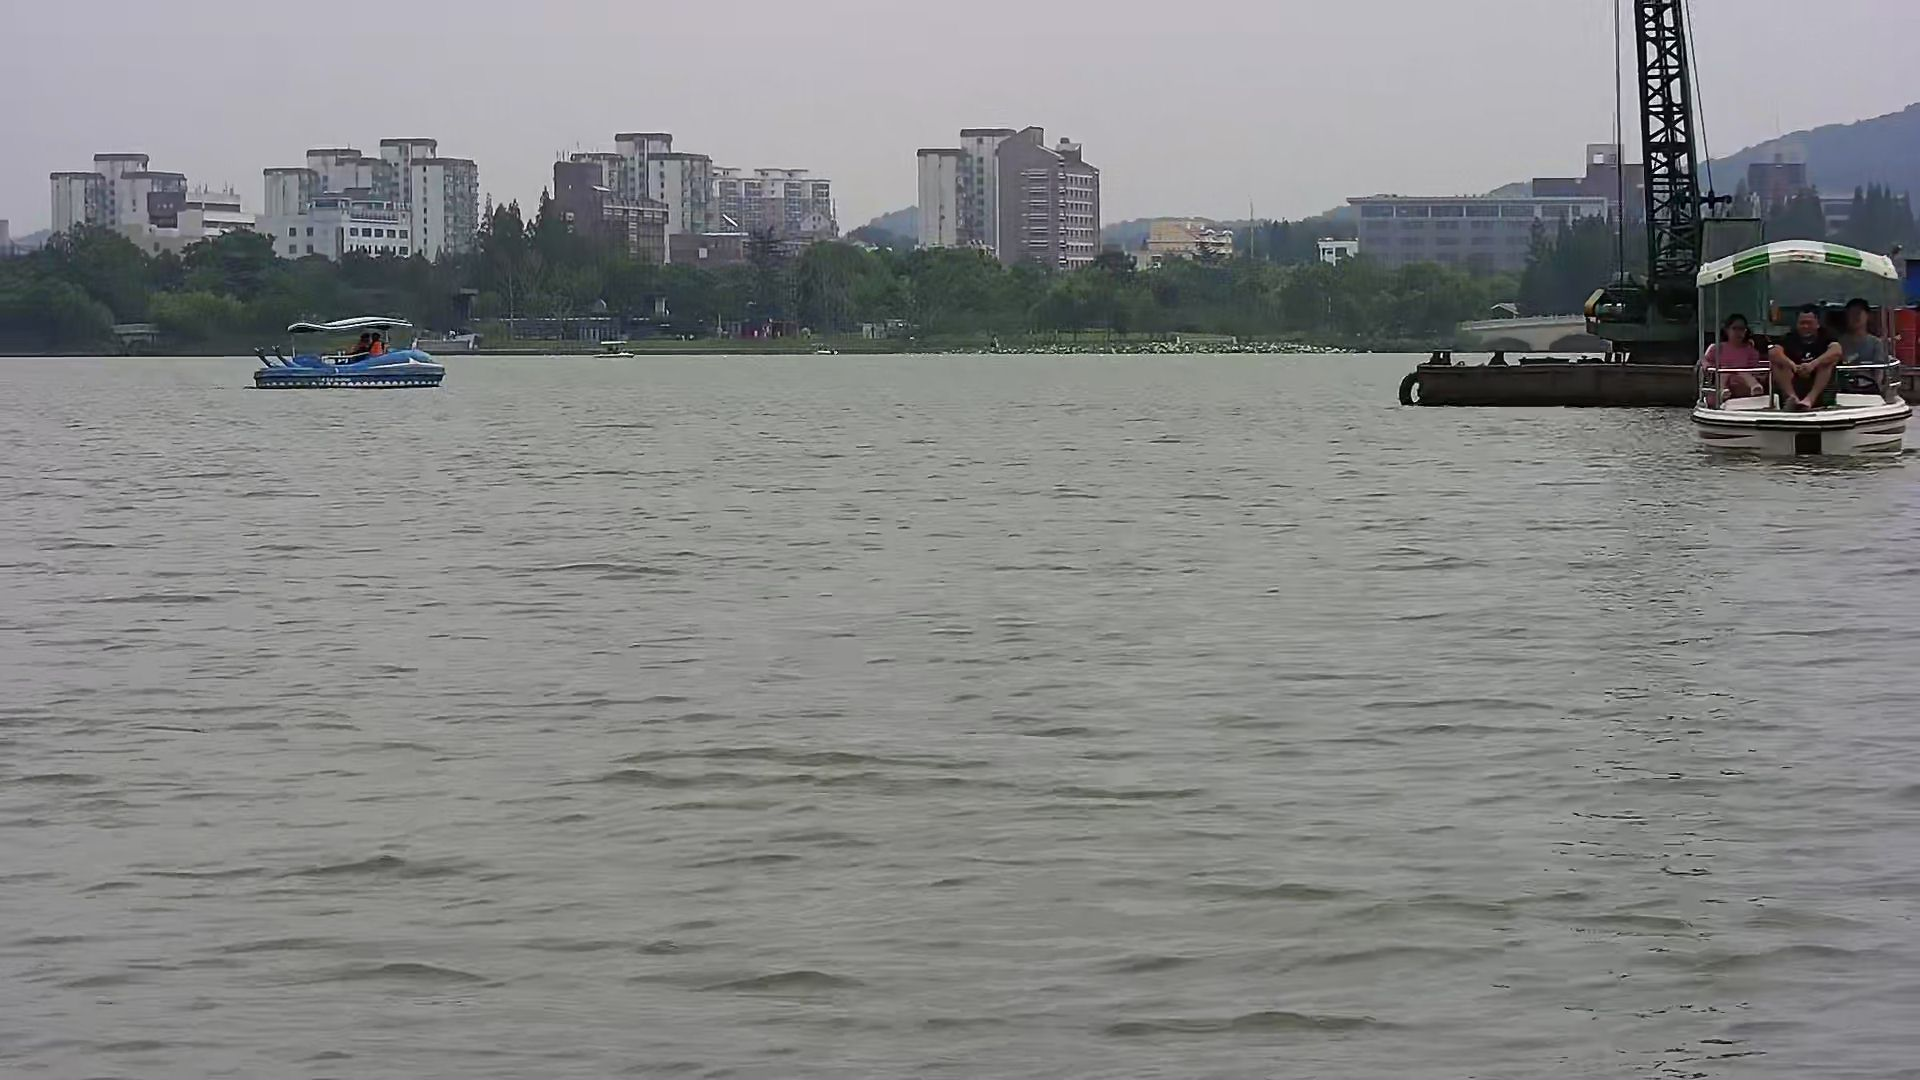boat: (1692, 229, 1904, 461), (247, 311, 449, 391)
person: (1781, 308, 1838, 429), (1839, 298, 1883, 389), (1721, 313, 1763, 403)
